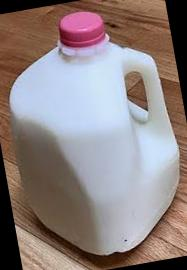plastic: (0, 0, 187, 265)
